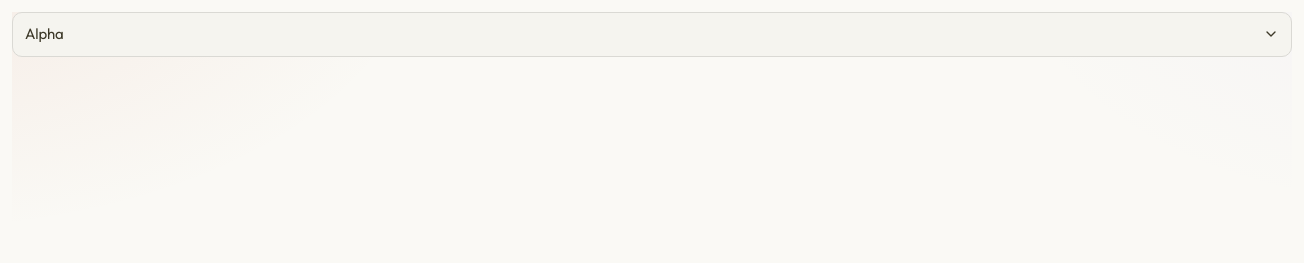
Scenario: Select › opens a listbox and selects with the arrow keys and Enter
Click the button with aria-label "Status" at (44, 34), box [12,12,1292,56]
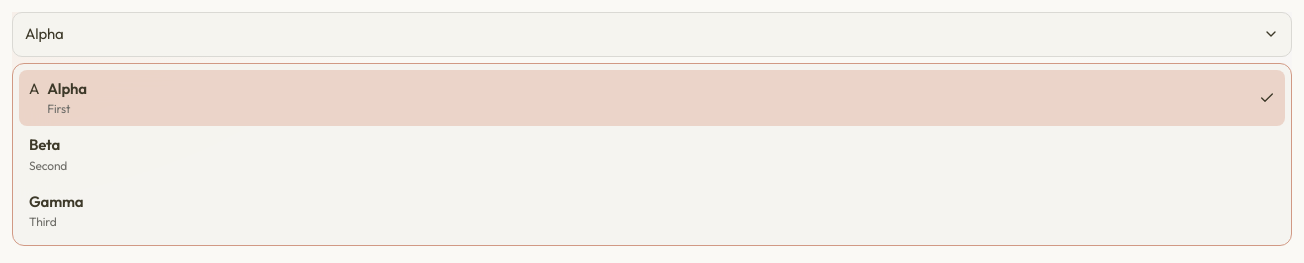
Check: the text "A" is shown, box [29,78,39,100]
Check: the 2nd icon is shown, box [1259,90,1275,106]
Press Arrowdown Enter
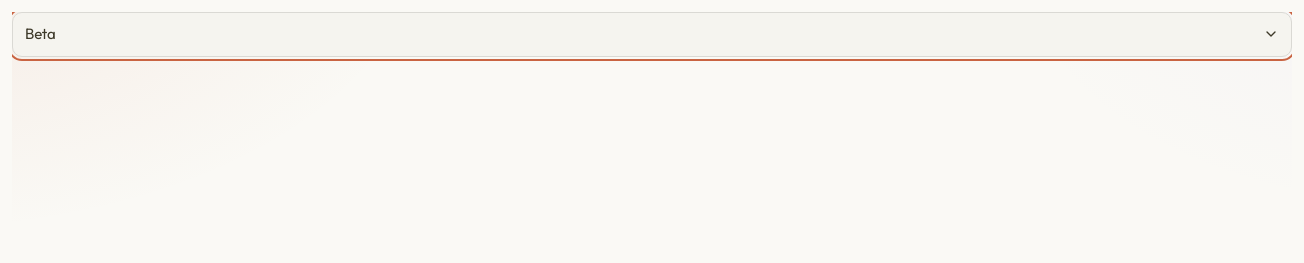
Check: the button with aria-label "Status" reads "Beta", box [12,12,1292,56]
Check: the list is gone
